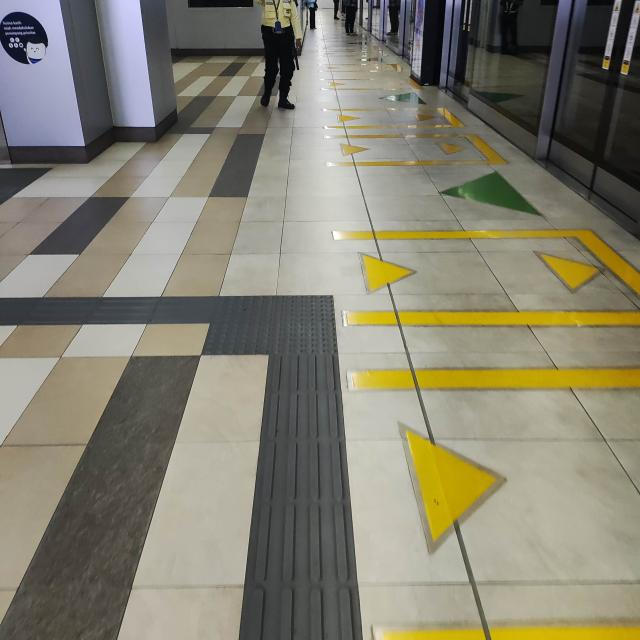kiri: (124, 273, 371, 385)
